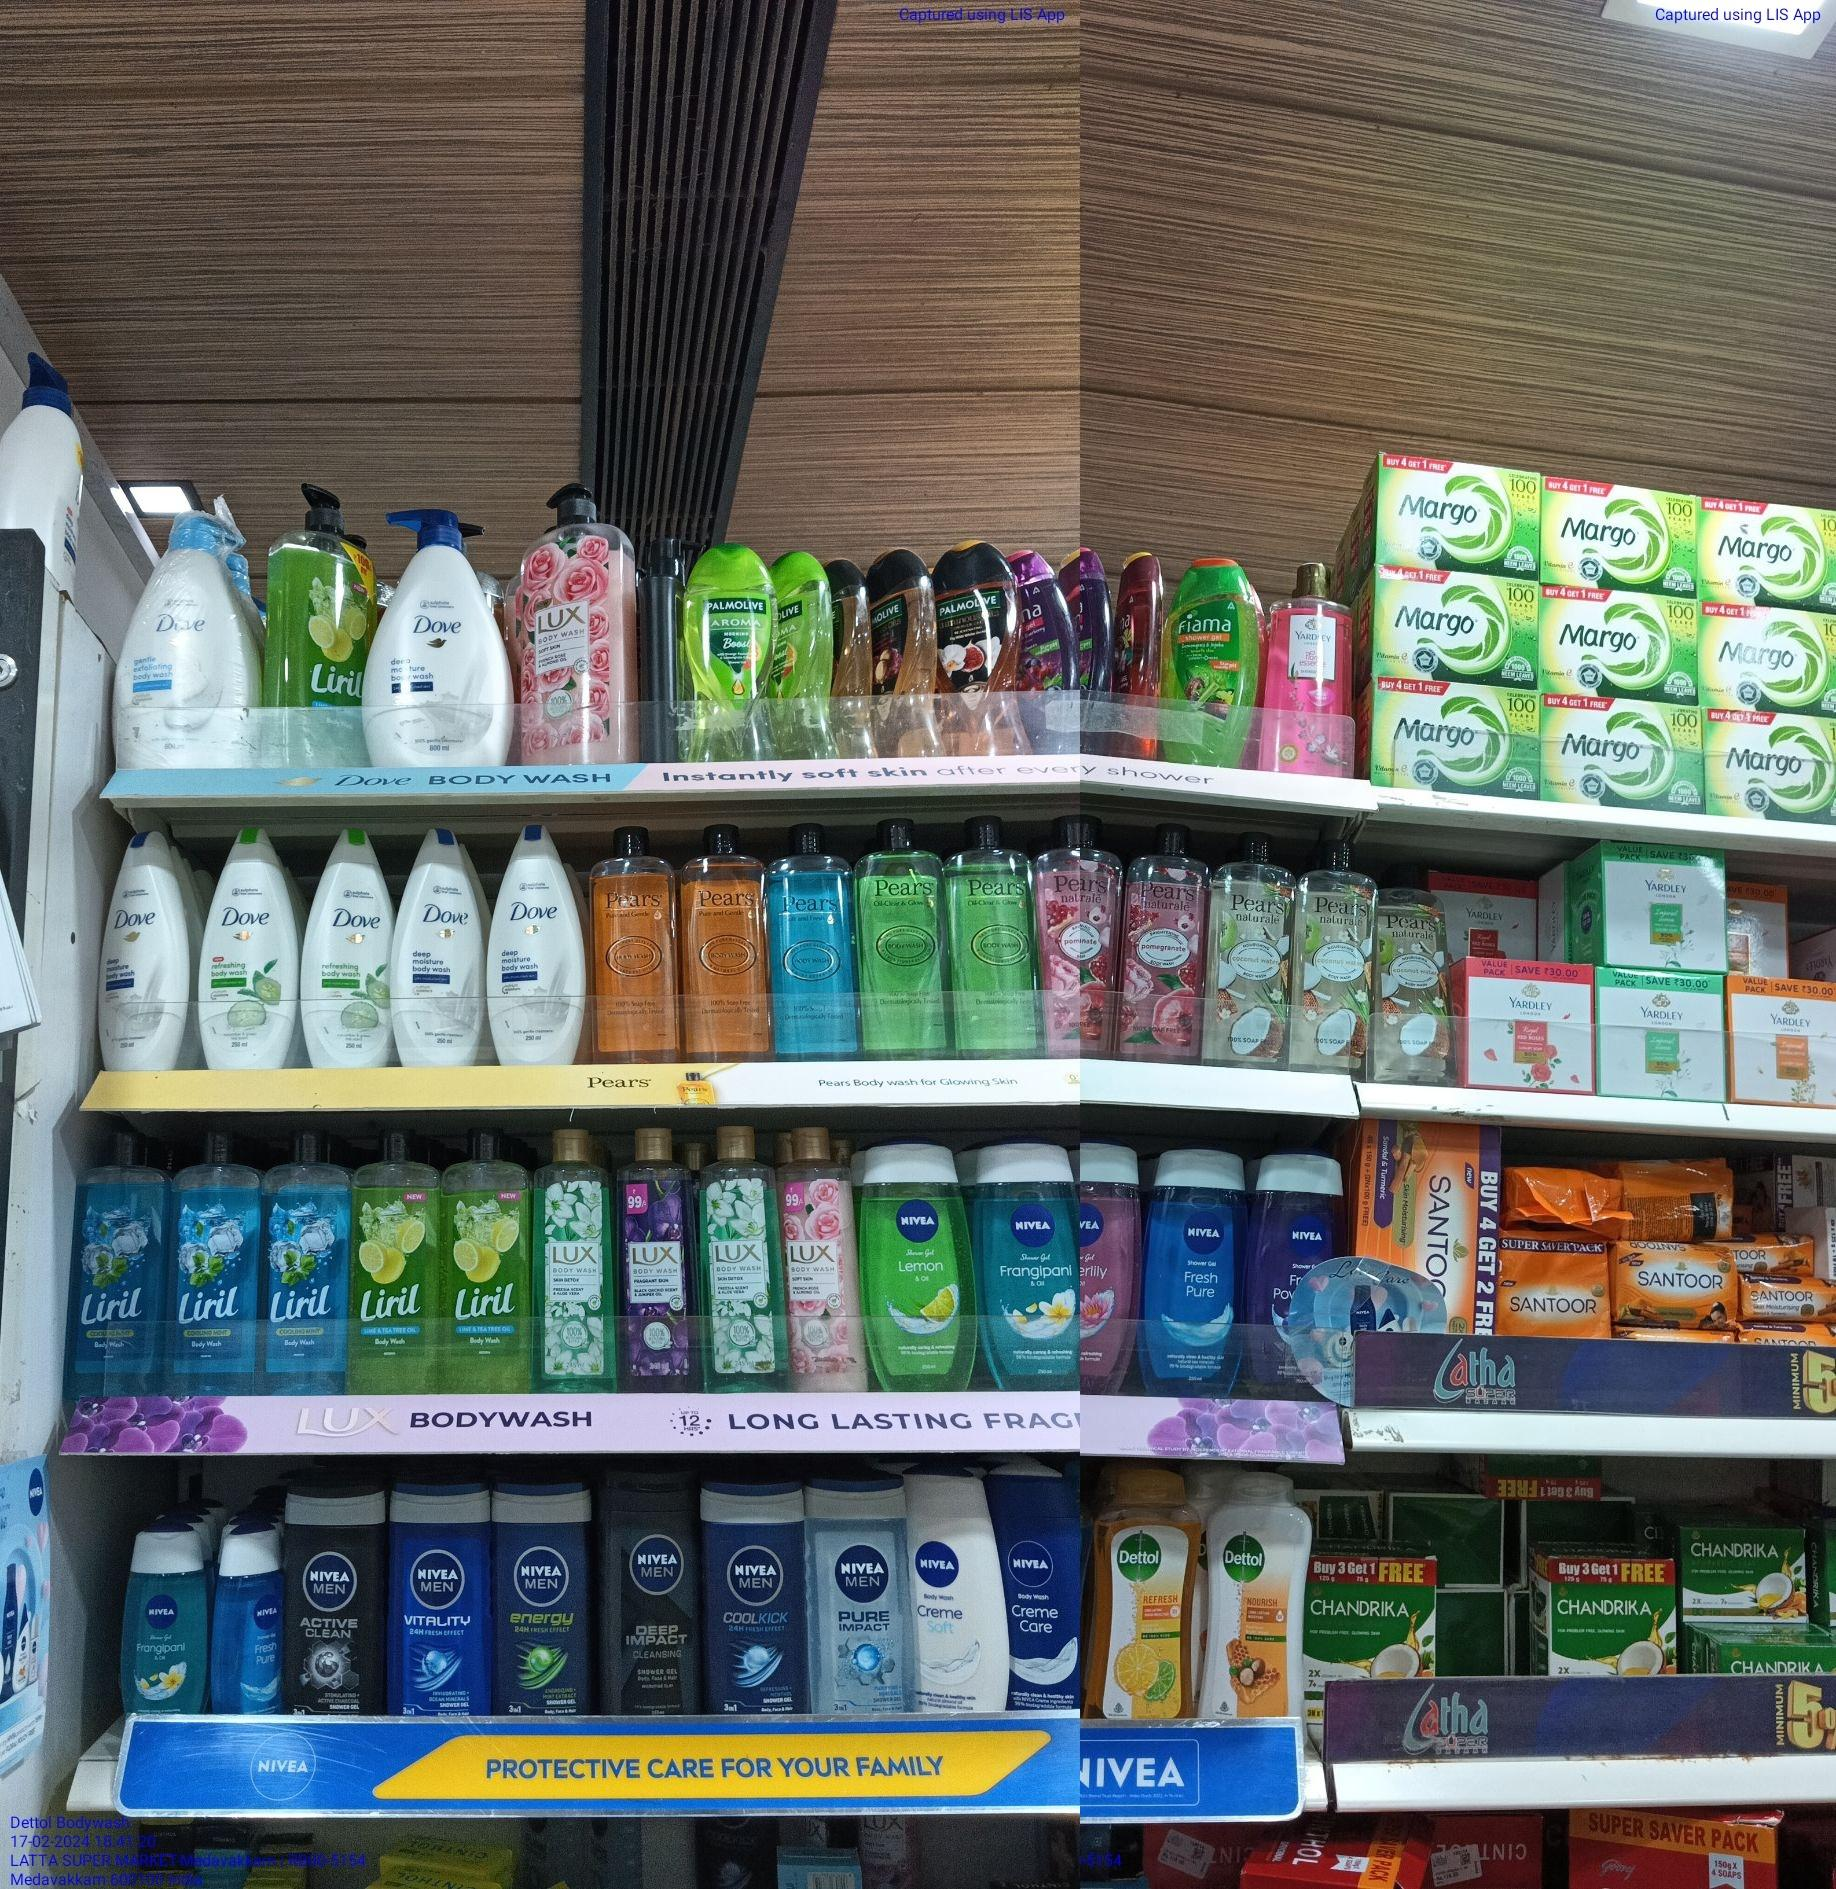Dettol_Bodywash_Refresh: (1086, 1467, 1194, 1717)
Dettol_Nourish_Body_Wash_250ML: (1207, 1471, 1303, 1717)
Dove_Deep_Moisture_Body_Wash_250ML: (492, 818, 587, 1066), (400, 813, 487, 1066), (96, 825, 185, 1066)
Dove_Refreshing_Body_Wash_250ML: (199, 826, 300, 1063), (307, 820, 389, 1073)
Fiama_Shower_Gel_Lemongrass_and_Jojoba_250ML: (1162, 552, 1256, 771)
Liril_Cooling_Mint_Body_Wash_250ML: (72, 1132, 160, 1391), (260, 1128, 342, 1390), (172, 1130, 253, 1383)
Liril_Lime_and_Tea_Tree_Oil_Body_Wash_250ML: (442, 1111, 536, 1388), (352, 1127, 435, 1390)
Lux_Black_Orchid_Scent_and_Juniper_Oil_Body_Wash_245ML: (620, 1111, 696, 1386)
Lux_Body_Wash_Skin_Detox_Freesia_Scent_and_Alove_Vera_245ML: (698, 1113, 786, 1388), (540, 1120, 614, 1390)
Nivea_Creme_Soft_Body_Wash_250ML: (914, 1466, 1005, 1722)
Nivea_Shower_Gel_Frangipani_and_Oil_250ML: (990, 1140, 1084, 1391)
Nivea_Shower_Gel_Lemon_and_Oil_250ML: (863, 1140, 978, 1391)
Palmolive_Aroma_Morning_Tonic_Shower_Gel_250ML: (683, 543, 782, 766)
Palmolive_Luminous_Oils_With_White_Orchid_Shower_Gel_250ML: (932, 540, 1023, 757)
Pears_Pure_Glycerin_and_Lemon_Flower_Extracts_Body_Wash_250ML: (863, 816, 951, 1056), (956, 813, 1040, 1049)
Pears_Pure_Glycerin_and_Mint_Extracts_Body_Wash_250ML: (769, 825, 858, 1054)
